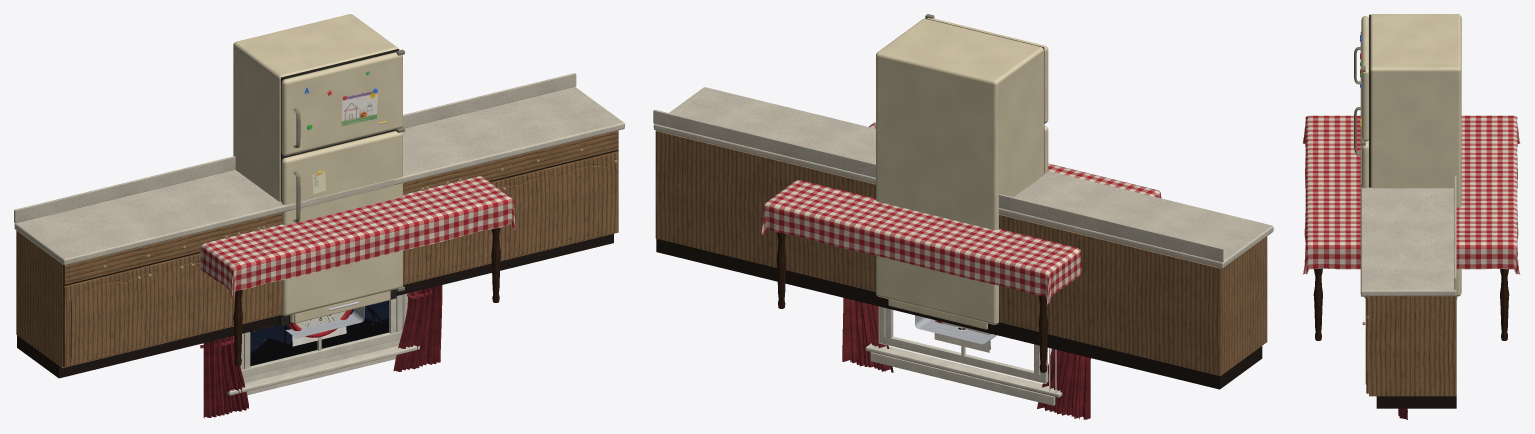
Rendered from props_kitchen.glb.
3 views of the same model, side by side, from view 1: azimuth 30°, elevation 25°; view 2: azimuth 150°, elevation 25°; view 3: azimuth 270°, elevation 25° (orthographic). The views are drawn at different scales.
Parts seen in each view (by area): view 1: Counter_440, Counter_370, Fridge, Table_Kitchen, Window_130x90, Counter_200, Window_120x90, Counter_220, Stove, Sink, WallClock; view 2: Counter_370, Counter_440, Fridge, Table_Kitchen, Counter_220, Window_130x90, Window_120x90, Counter_200, Sink, Stove; view 3: Table_Kitchen, Fridge, Counter_440, Counter_370.
Part boxes in pixels (box(x1,y1,x2,y2)): Counter_440: box(14, 73, 624, 378); Counter_370: box(59, 84, 579, 367); Fridge: box(233, 14, 404, 326); Table_Kitchen: box(199, 176, 515, 365); Window_130x90: box(200, 285, 442, 418); Counter_200: box(167, 110, 472, 339); Window_120x90: box(209, 286, 437, 417); Counter_220: box(154, 107, 484, 344); Stove: box(290, 267, 390, 323); Sink: box(285, 306, 364, 337); WallClock: box(288, 309, 352, 337); Counter_370: box(698, 98, 1226, 378); Counter_440: box(653, 87, 1273, 389); Fridge: box(876, 14, 1048, 324); Table_Kitchen: box(761, 122, 1161, 372); Counter_220: box(795, 122, 1129, 354); Window_130x90: box(842, 298, 1090, 419); Window_120x90: box(850, 302, 1080, 419); Counter_200: box(808, 147, 1096, 348); Sink: box(915, 315, 996, 344); Stove: box(888, 299, 987, 329); Table_Kitchen: box(1302, 115, 1520, 340); Fridge: box(1354, 14, 1461, 296); Counter_440: box(1360, 31, 1456, 408); Counter_370: box(1360, 52, 1456, 270).
Bounding box in the file's own units: 4.44 × 2.57 × 1.57.
Materials: 78 (44 with a texture image).
